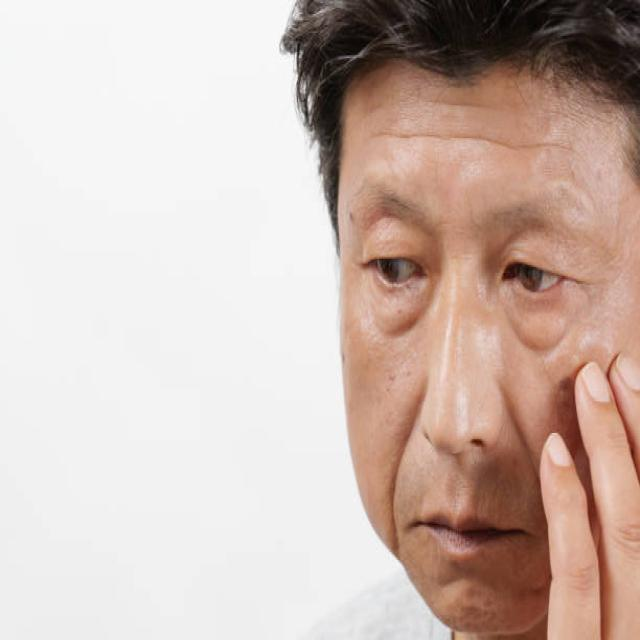Dry-Skin: (353, 88, 595, 210)
